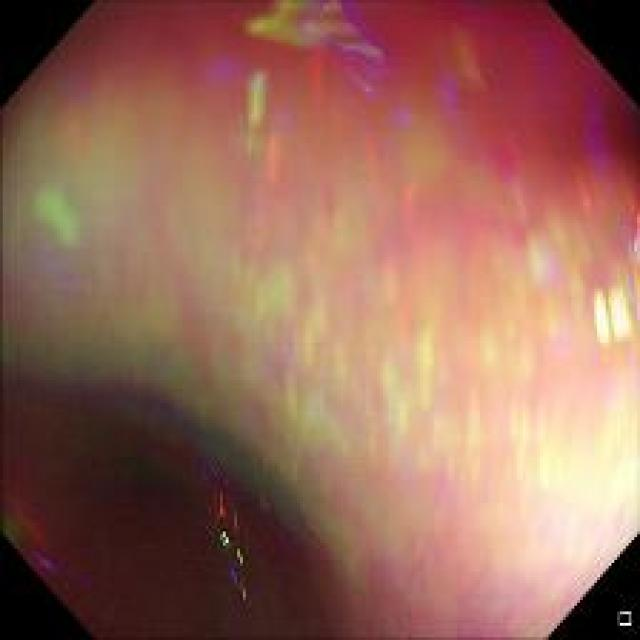color misalignment: (14, 29, 631, 625), (201, 462, 256, 610), (8, 490, 60, 580)
specularity: (585, 285, 632, 349)
